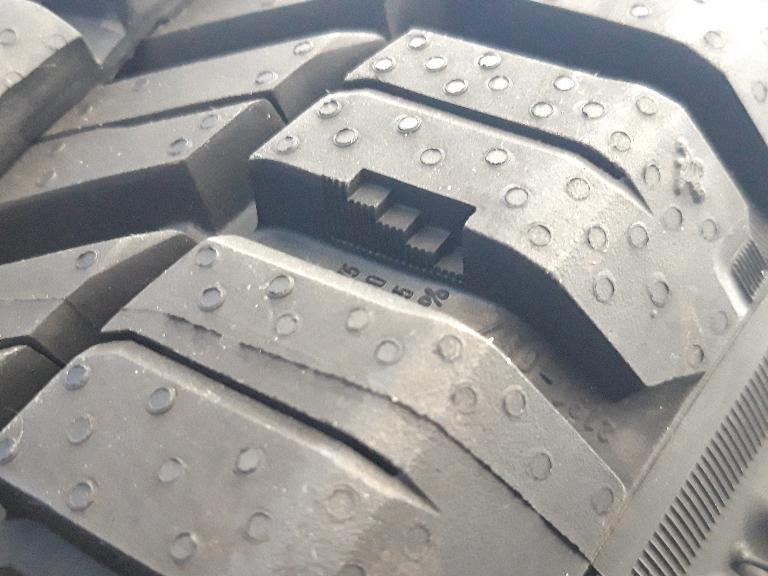temoin:100: (313, 159, 482, 296)
